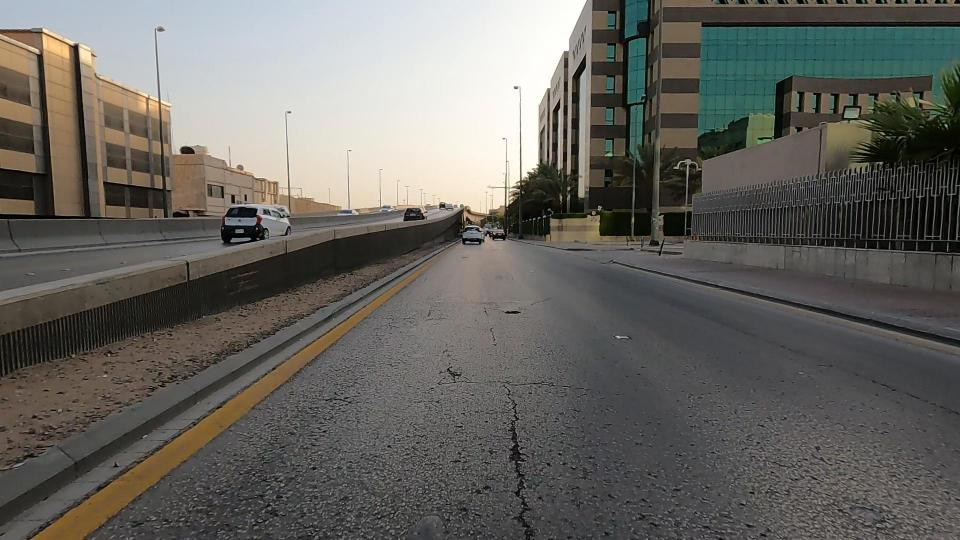POTHOLES: (455, 328, 582, 540)
